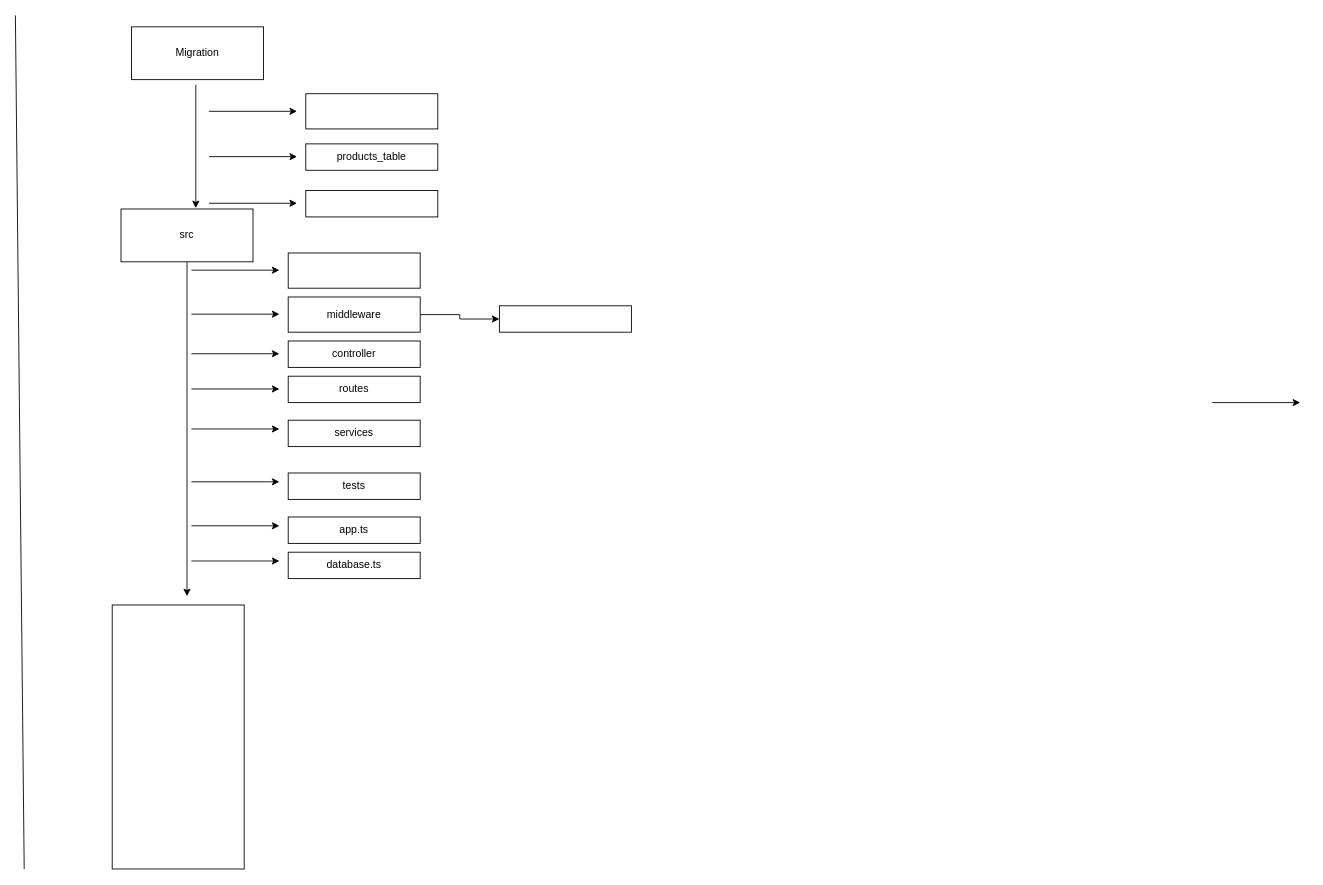
The diagram is 1323 pixels wide and 885 high, and some of its shapes have lost their labels. Each missing label, with the centre of its shape:
currentuser: point (565, 318)
index.js package.json ts.config docker-compose prettier eslint: point (177, 736)
models: point (353, 270)
orders_table: point (371, 203)
users_table: point (371, 111)
